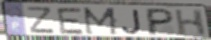E: (56, 7, 87, 35)
H: (174, 9, 207, 37)
J: (120, 9, 143, 36)
M: (82, 7, 120, 36)
P: (146, 8, 175, 37)
Z: (26, 6, 56, 35)
